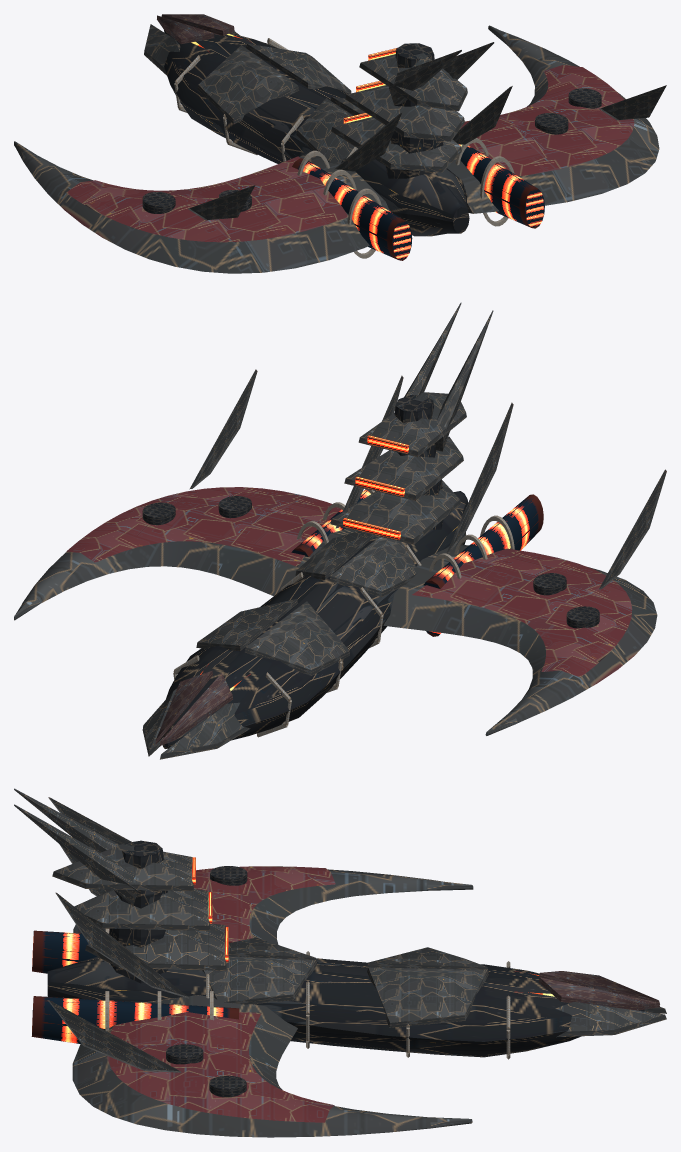
The model's file is dynasty_cruiser.glb.
3 renders of one model, top to bottom at view 1: azimuth 30°, elevation 25°; view 2: azimuth 150°, elevation 25°; view 3: azimuth 270°, elevation 25°, orthographic.
Parts seen in each view (by area): view 1: dynasty_cruiser_lod_source; view 2: dynasty_cruiser_lod_source; view 3: dynasty_cruiser_lod_source.
Part boxes in pixels (box(x1,y1,x2,y2)): dynasty_cruiser_lod_source: box(14, 14, 666, 273); dynasty_cruiser_lod_source: box(14, 302, 666, 759); dynasty_cruiser_lod_source: box(14, 788, 666, 1137).
Size of the model in its own units: 2.73 by 1.2 by 2.85.
Materials: 1 (1 with a texture image).
